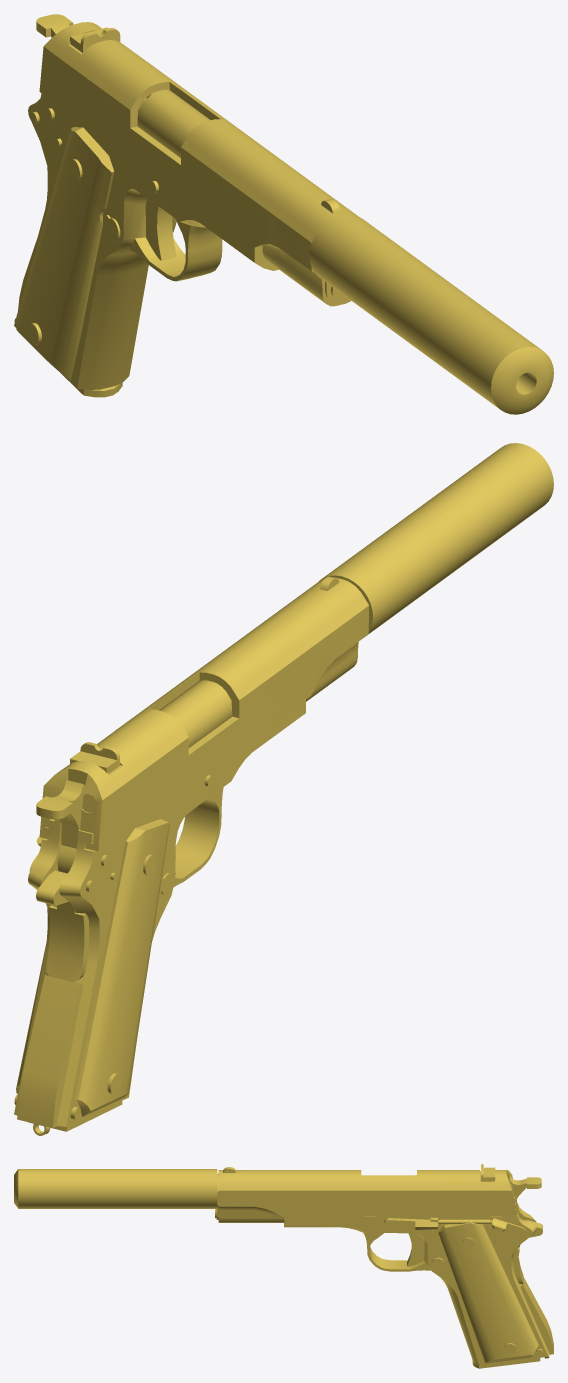
File: m1911pistol.obj
The picture shows the model from 3 angles, top to bottom: view 1: azimuth 30°, elevation 25°; view 2: azimuth 150°, elevation 25°; view 3: azimuth 270°, elevation 25°; orthographic projection. The views are drawn at different scales.
Parts seen in each view (by area): view 1: Cube_001_low_Cube_014; view 2: Cube_001_low_Cube_014; view 3: Cube_001_low_Cube_014.
Part boxes in pixels (<box>): Cube_001_low_Cube_014: <box>14,14,553,414</box>; Cube_001_low_Cube_014: <box>14,443,553,1135</box>; Cube_001_low_Cube_014: <box>14,1164,553,1368</box>.
Bounding box in the file's own units: 4.75 × 19.03 × 47.36.
